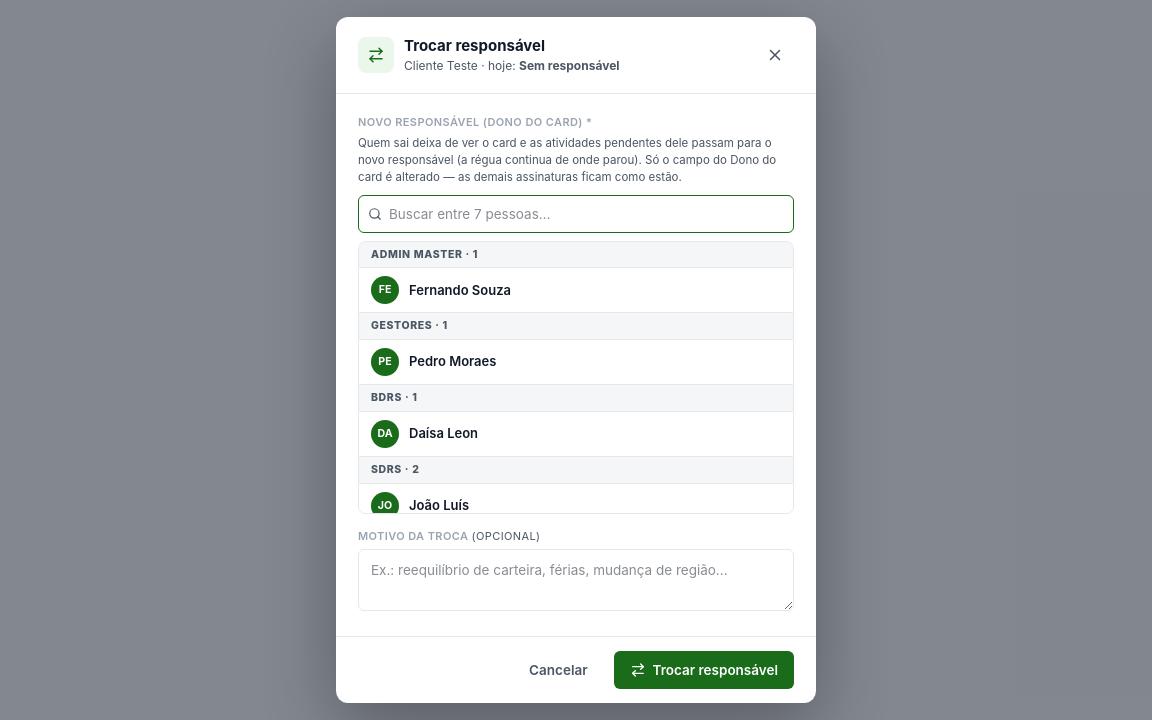
Test case: ChangeResponsibleModal — lista grande › busca ignora acento e maiúscula ("joao" acha "João Luís")
Type "JOAO" into the search field named "buscar responsável por nome". click: (576, 214)
box: 358,195 -> 794,233
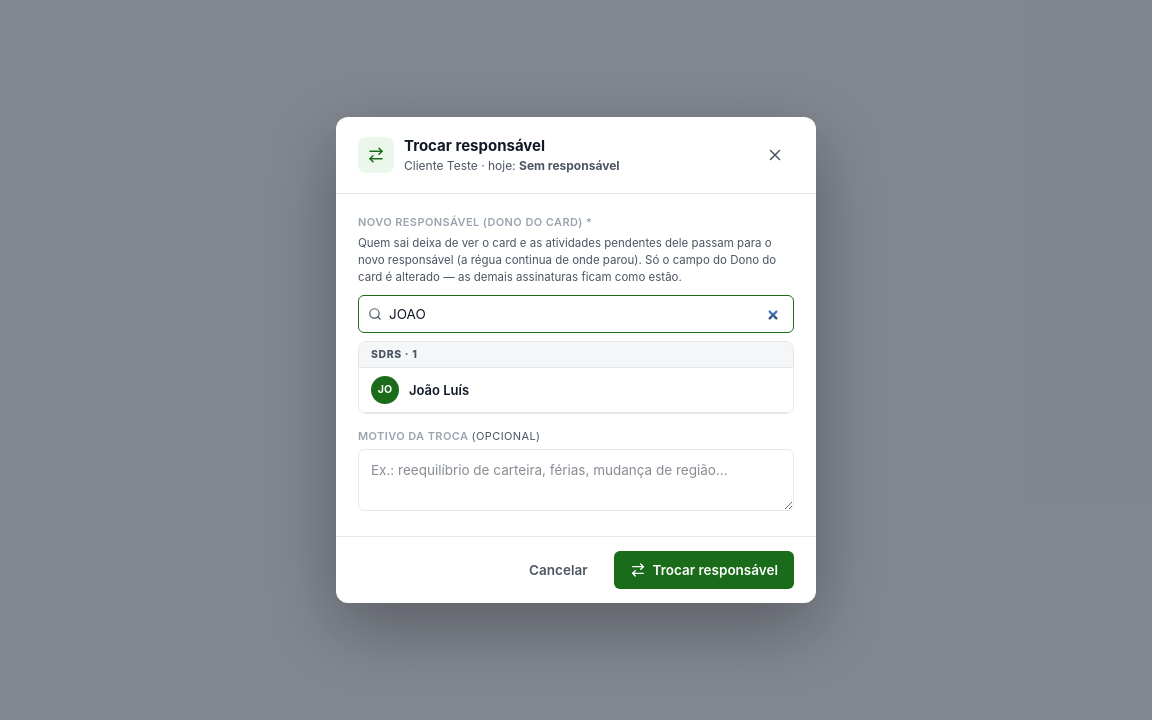
Expected: the text "João Luís" is shown, 409,382 -> 469,398
Expected: the text "Fernando Souza" is gone
